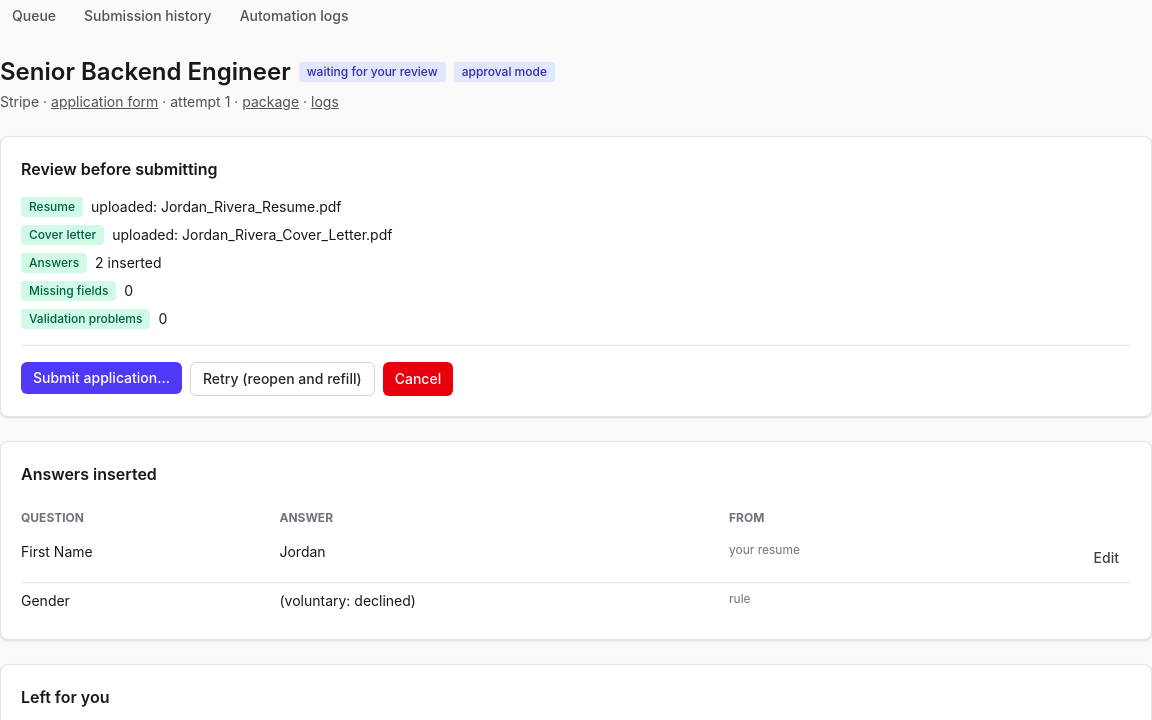
Test: ApplicationReview › submits only after an explicit confirmation
Later steps or results of the test are not shown.
Click the button "Submit application…": (102, 378) [21,362,182,394]
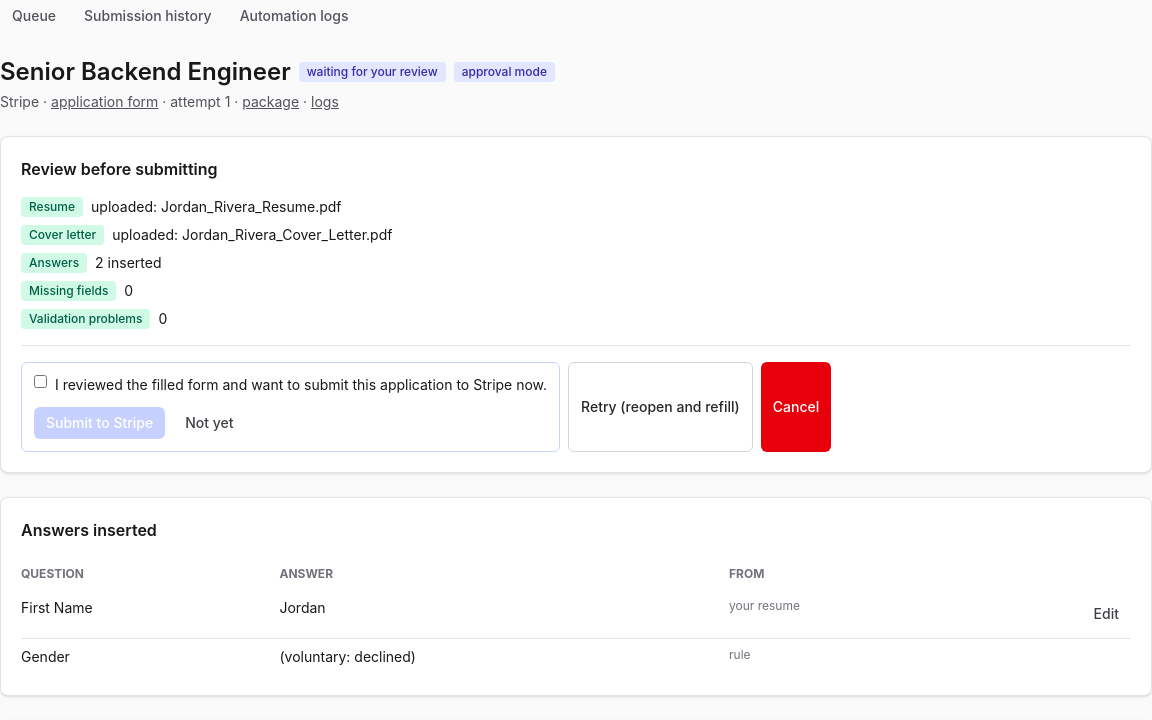
Expected: the button "Submit to Stripe" is disabled, [34,407,165,439]
